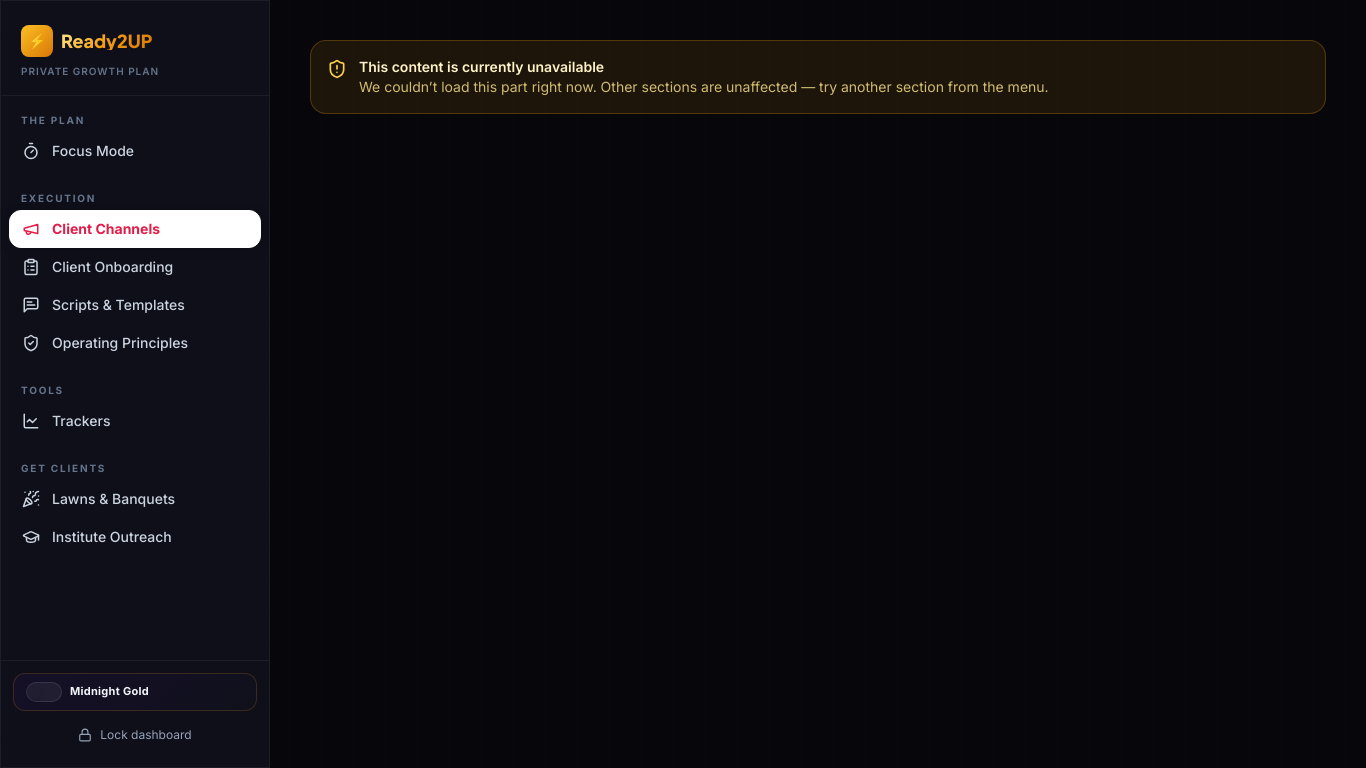
Scenario: A malformed backing key isolates the affected section (Req 4.5, 8.8) › shows "currently unavailable" for the broken section while others still render
This screenshot has width=1366, height=768.
Expected: the text "This content is currently unavailable" is shown, [359,58,604,75]
Step 1. Click the button "Operating Principles" → coordinates (135, 343), box [9,324,261,362]
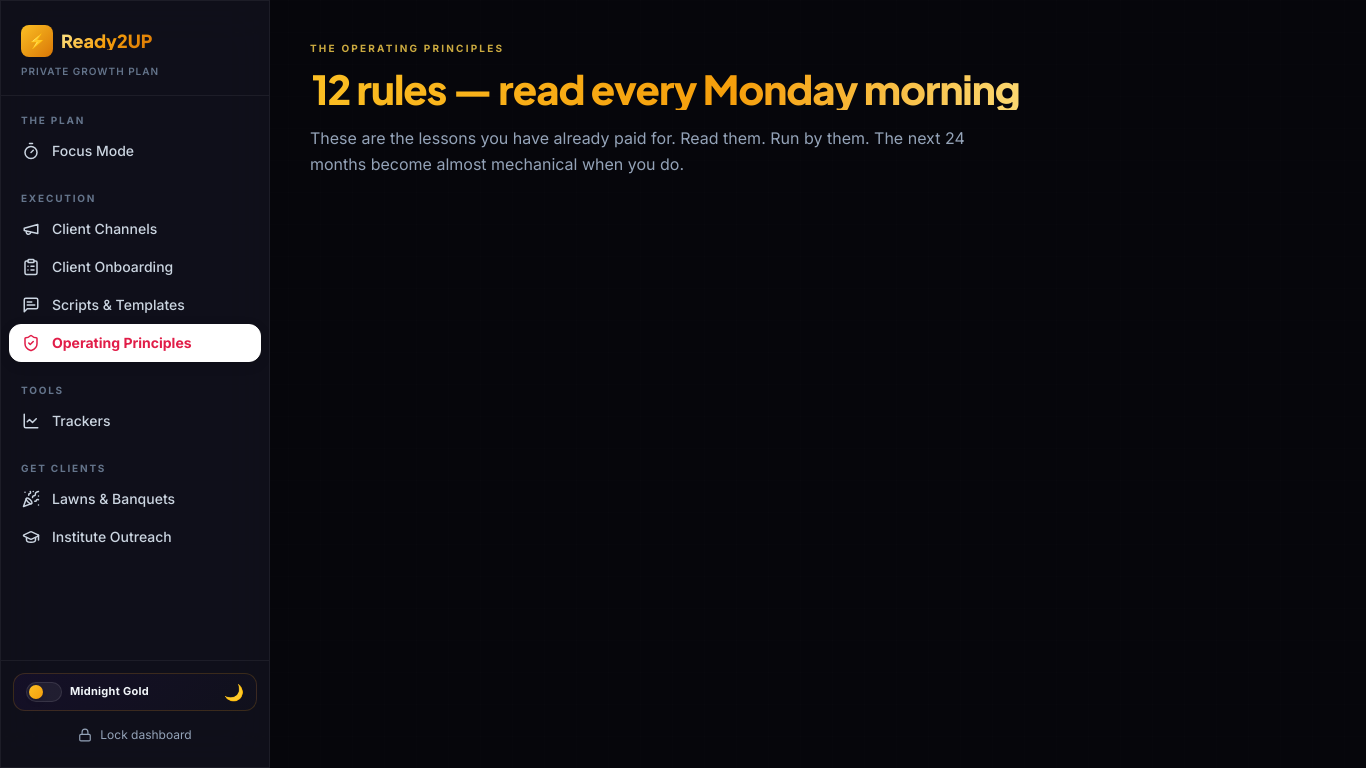
Expected: the heading "12 rules — read every Monday morning" is shown, [310,68,1022,110]
Expected: the text "currently unavailable" is gone
